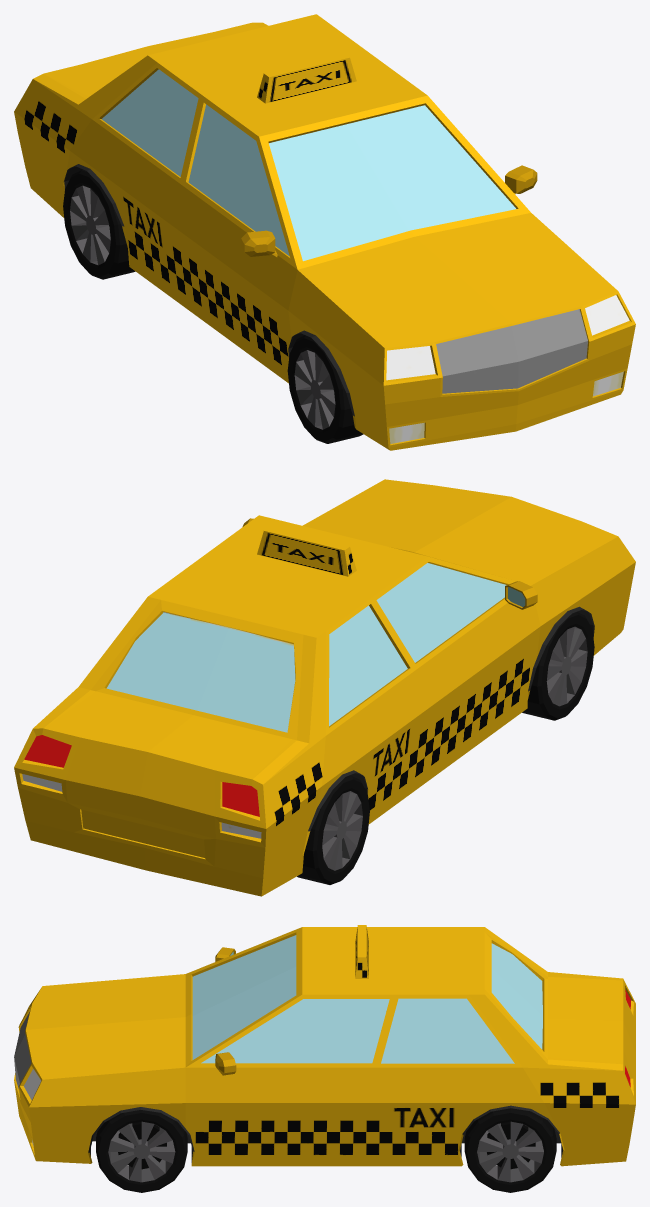
Rendered from taxi.fbx.
3 views of the same model, one above another, from view 1: azimuth 30°, elevation 25°; view 2: azimuth 150°, elevation 25°; view 3: azimuth 270°, elevation 25° (orthographic). The views are drawn at different scales.
Visible parts, largest first — view 1: Body, Wheel 2, Wheel 1, Plate, Mirrors; view 2: Body, Wheel 2, Wheel 1, Plate, Mirrors; view 3: Body, Wheel 3, Wheel 4, Plate, Mirrors.
Part boxes in pixels (x1=…): Body: x1=14, y1=14, x2=635, y2=450; Wheel 2: x1=63, y1=169, x2=135, y2=279; Wheel 1: x1=287, y1=335, x2=363, y2=443; Plate: x1=257, y1=54, x2=356, y2=103; Mirrors: x1=241, y1=165, x2=537, y2=256; Body: x1=14, y1=479, x2=635, y2=896; Wheel 2: x1=297, y1=775, x2=369, y2=884; Wheel 1: x1=522, y1=612, x2=594, y2=720; Plate: x1=257, y1=527, x2=356, y2=576; Mirrors: x1=242, y1=518, x2=537, y2=609; Body: x1=14, y1=927, x2=635, y2=1166; Wheel 3: x1=464, y1=1108, x2=556, y2=1192; Wheel 4: x1=96, y1=1110, x2=187, y2=1192; Plate: x1=355, y1=925, x2=368, y2=978; Mirrors: x1=215, y1=947, x2=236, y2=1075.
Bounding box in the file's own units: 251 × 201 × 561.
16 materials, 2 textured.
